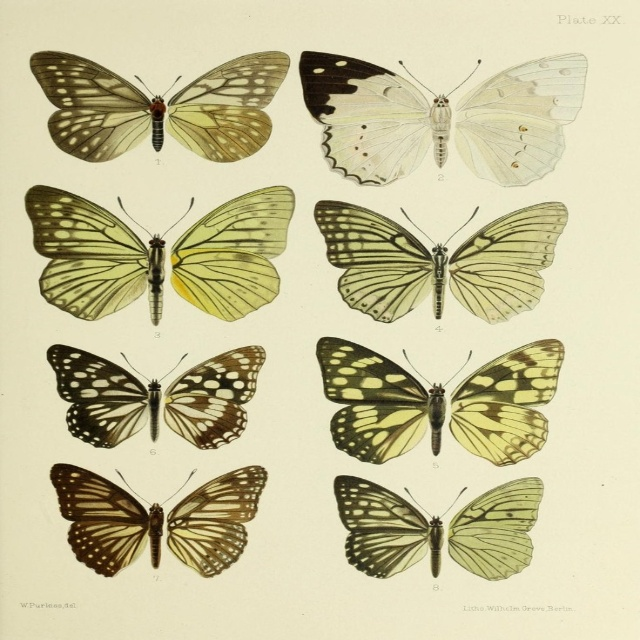Butterfly: (280, 40, 602, 193), (17, 174, 299, 333), (20, 39, 299, 171), (309, 193, 570, 332), (309, 330, 565, 469), (32, 336, 276, 457), (40, 463, 264, 582), (324, 474, 544, 581)
